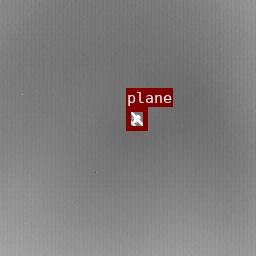plane: (126, 107, 147, 130)
